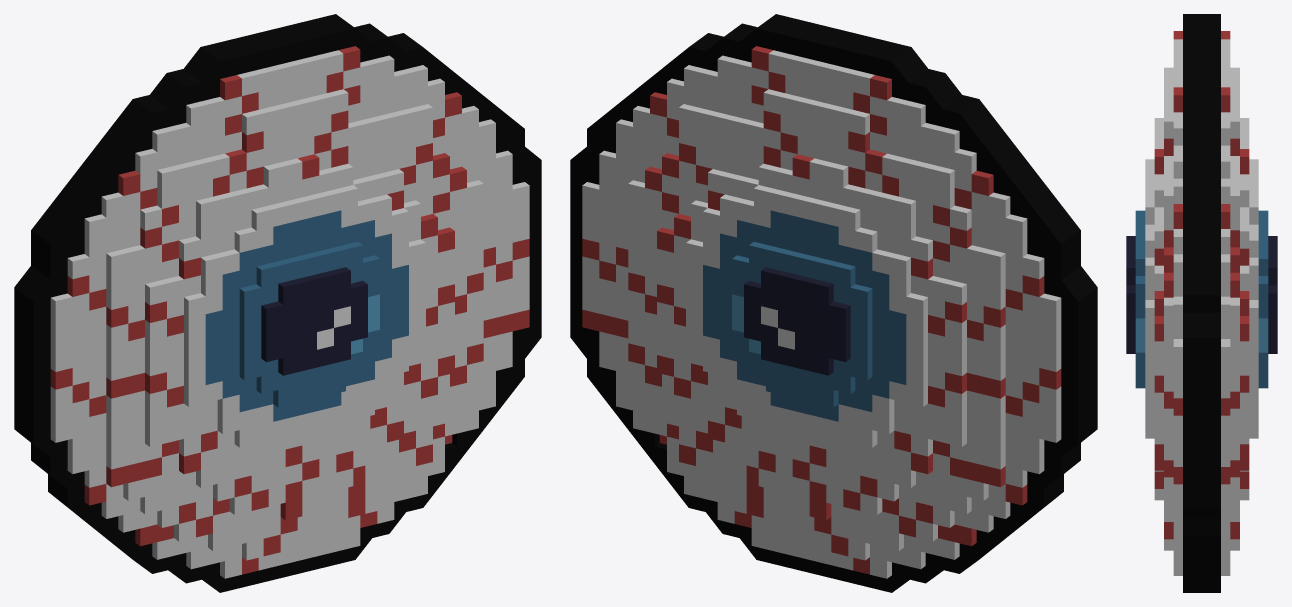
The model's file is eye.glb.
3 renders of one model, left to right at view 1: azimuth 30°, elevation 25°; view 2: azimuth 150°, elevation 25°; view 3: azimuth 270°, elevation 25°, orthographic. The views are drawn at different scales.
Visible parts, largest first — view 1: generated(Clone); view 2: generated(Clone); view 3: generated(Clone).
Part boxes in pixels (x1,y1,x2,y2): generated(Clone): (14, 14, 541, 592); generated(Clone): (570, 14, 1097, 592); generated(Clone): (1126, 14, 1277, 592).
Size of the model in its own units: 30 by 30 by 8.
